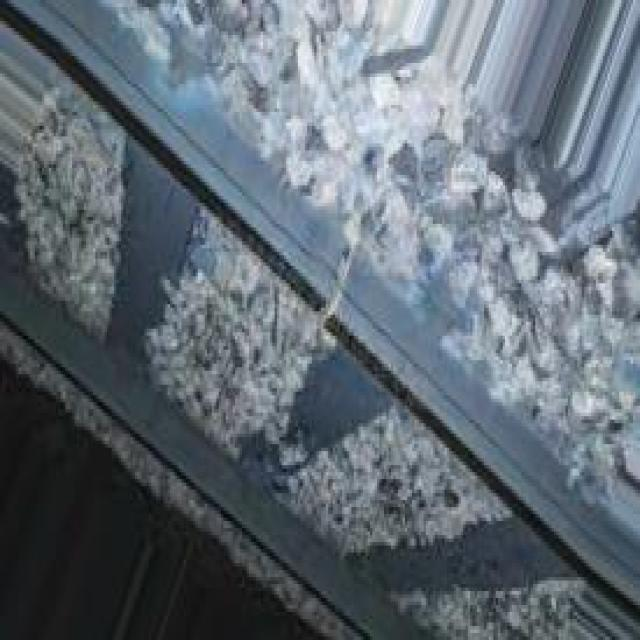crack: (311, 205, 368, 368)
